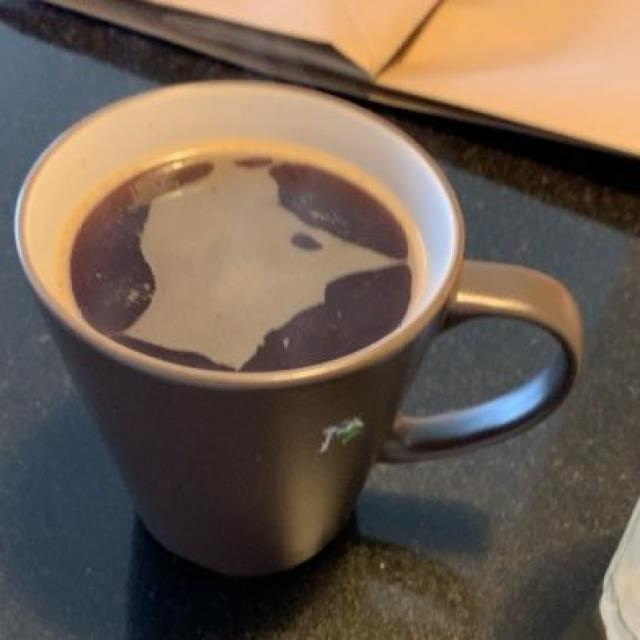coffee: (82, 161, 412, 371)
